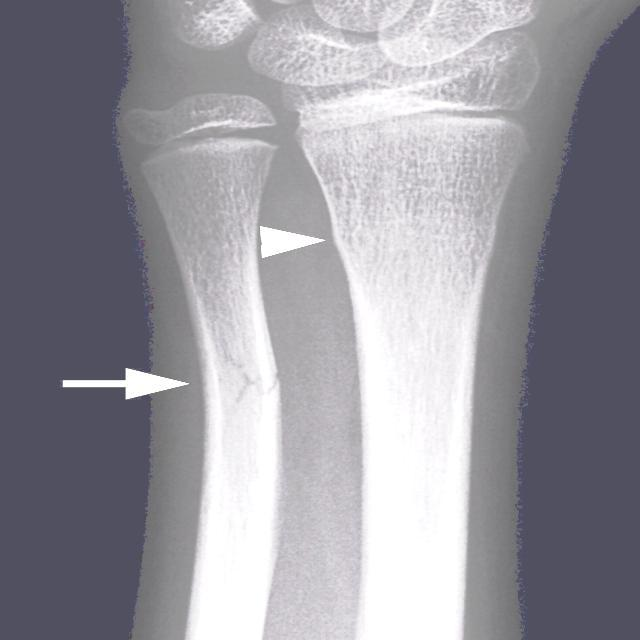GreenStick Fracture: (222, 346, 280, 404)
